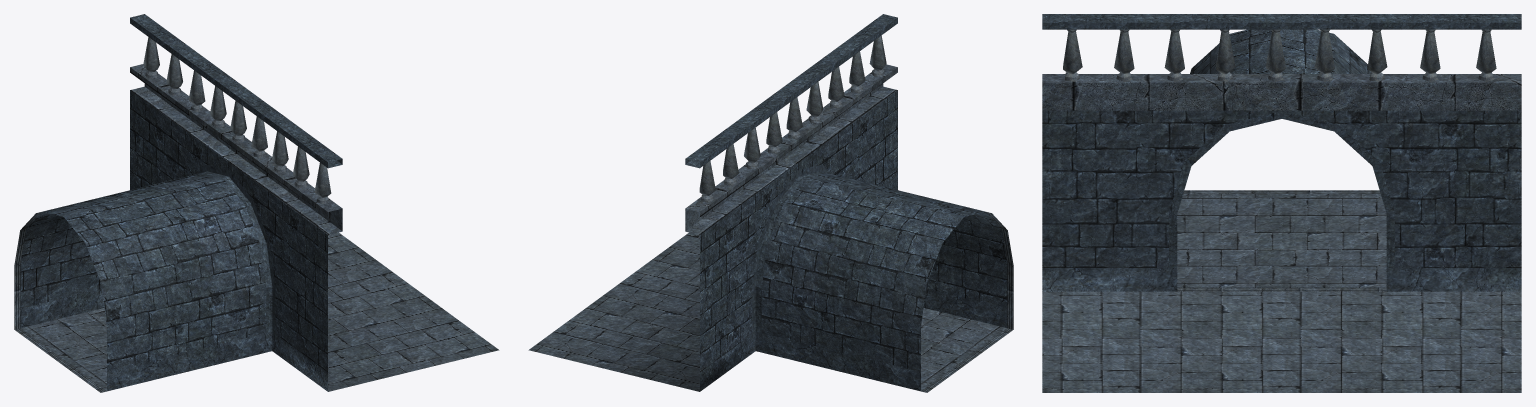
File: DownFloor_tunel.FBX
The picture shows the model from 3 angles, left to right: view 1: azimuth 30°, elevation 25°; view 2: azimuth 150°, elevation 25°; view 3: azimuth 270°, elevation 25°; orthographic projection. The views are drawn at different scales.
Visible parts, largest first — view 1: DownFloor_tunel; view 2: DownFloor_tunel; view 3: DownFloor_tunel.
Part boxes in pixels (<box>): DownFloor_tunel: <box>14,14,499,392</box>; DownFloor_tunel: <box>528,14,1013,392</box>; DownFloor_tunel: <box>1042,14,1521,392</box>.
Size of the model in its own units: 91.85 by 58.73 by 91.85.
